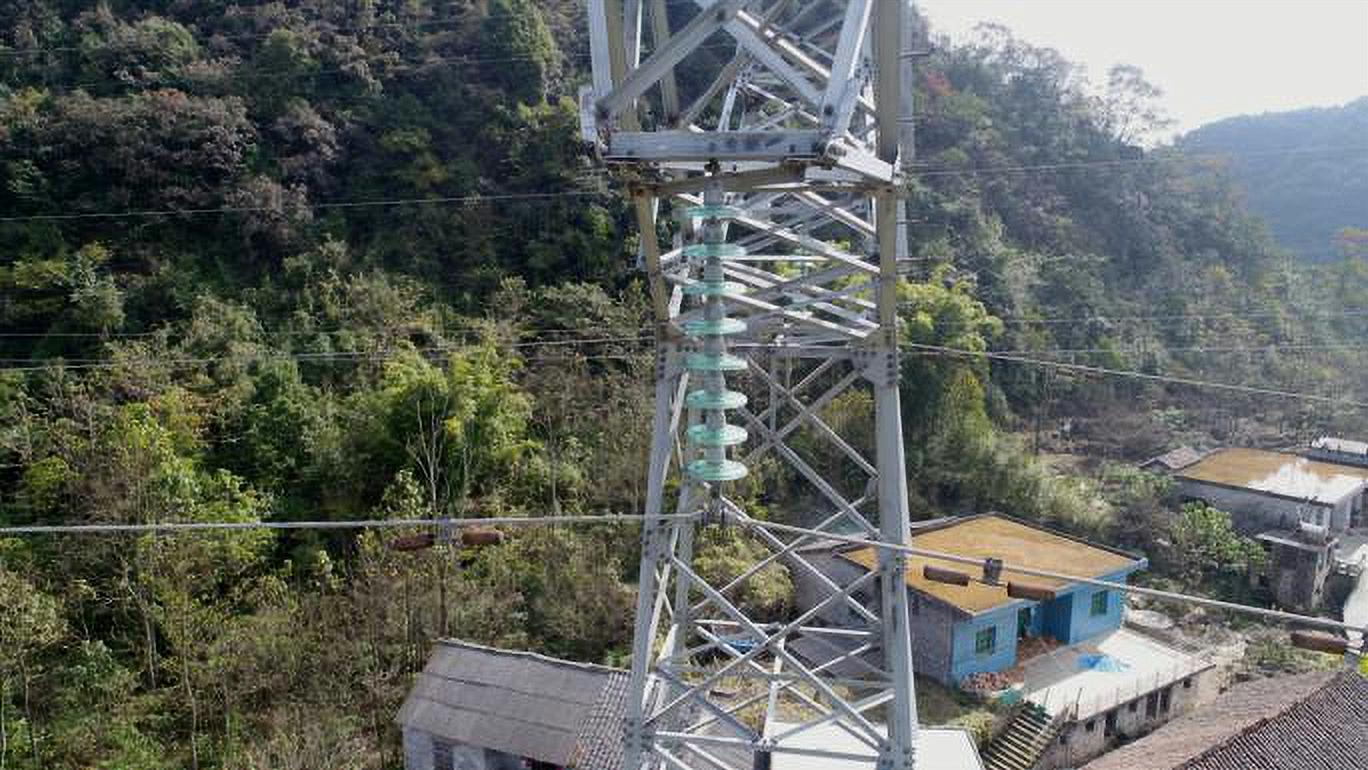insulator: (673, 199, 756, 487)
